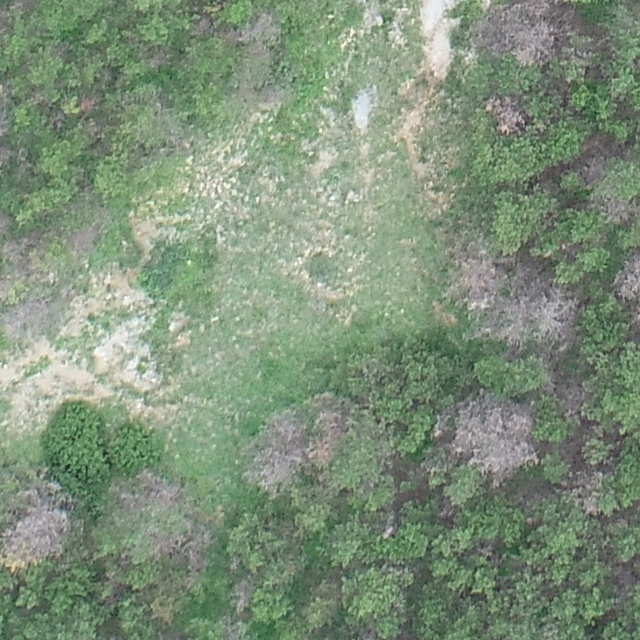unhealthy: (447, 394, 539, 478), (466, 6, 559, 66), (2, 491, 72, 569), (247, 415, 305, 491), (446, 243, 506, 313), (533, 287, 579, 352), (309, 398, 351, 465), (123, 468, 185, 512), (497, 283, 534, 353), (0, 298, 54, 342), (552, 470, 604, 515), (485, 94, 527, 136), (550, 373, 589, 417), (183, 525, 213, 573), (614, 251, 640, 303), (0, 234, 39, 268), (240, 11, 279, 44), (66, 221, 102, 254), (230, 573, 257, 615), (146, 528, 181, 560), (600, 195, 634, 225), (1, 83, 14, 145), (143, 43, 172, 69), (580, 155, 607, 181), (0, 139, 15, 173), (76, 93, 100, 114), (625, 301, 638, 339), (191, 16, 213, 38), (0, 209, 12, 235)
